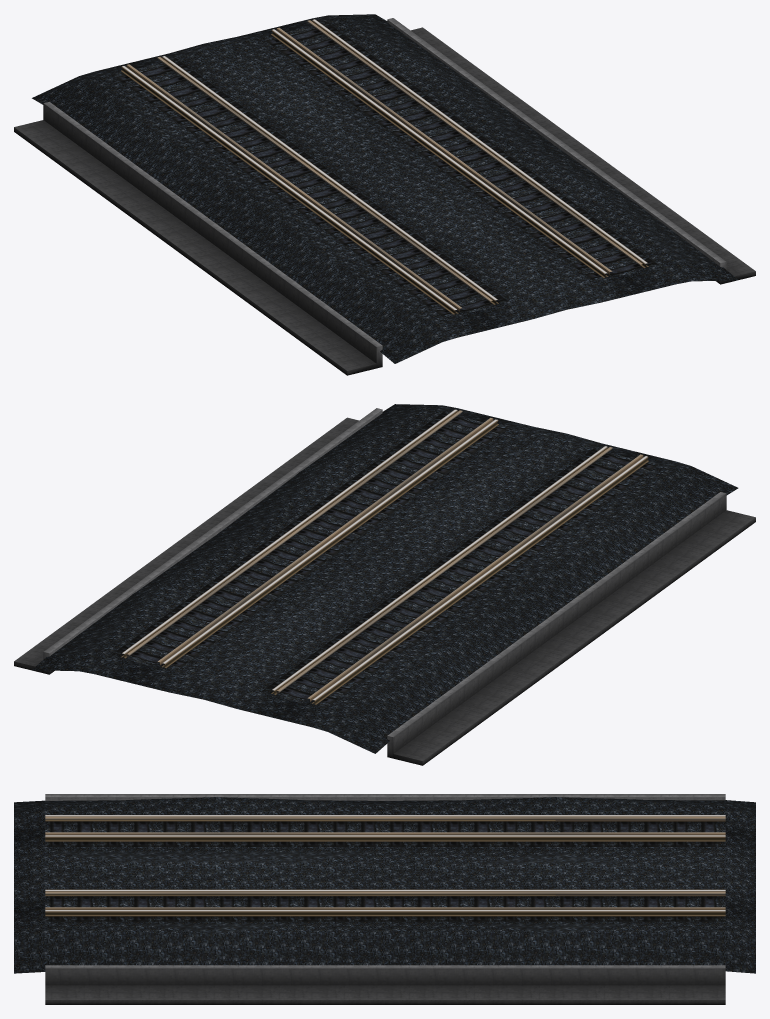
File: SIN_2RAIL_50.glb
3 renders of one model, top to bottom at view 1: azimuth 30°, elevation 25°; view 2: azimuth 150°, elevation 25°; view 3: azimuth 270°, elevation 25°, orthographic. The views are drawn at different scales.
Visible parts, largest first — view 1: Jari_All1, R000_RG_R1, R000_RG_L1; view 2: Jari_All1, R000_RG_R1, R000_RG_L1; view 3: Jari_All1, R000_RG_L1, R000_RG_R1.
Part boxes in pixels (x1,y1,x2,y2): Jari_All1: [14, 14, 755, 375]; R000_RG_R1: [126, 27, 612, 311]; R000_RG_L1: [157, 20, 642, 302]; Jari_All1: [14, 404, 755, 765]; R000_RG_R1: [157, 418, 643, 701]; R000_RG_L1: [126, 410, 612, 693]; Jari_All1: [14, 794, 755, 1004]; R000_RG_L1: [45, 832, 725, 909]; R000_RG_R1: [45, 817, 725, 895].
Bounding box in the file's own units: 35.42 × 3.35 × 54.53.
7 materials, 6 textured.
